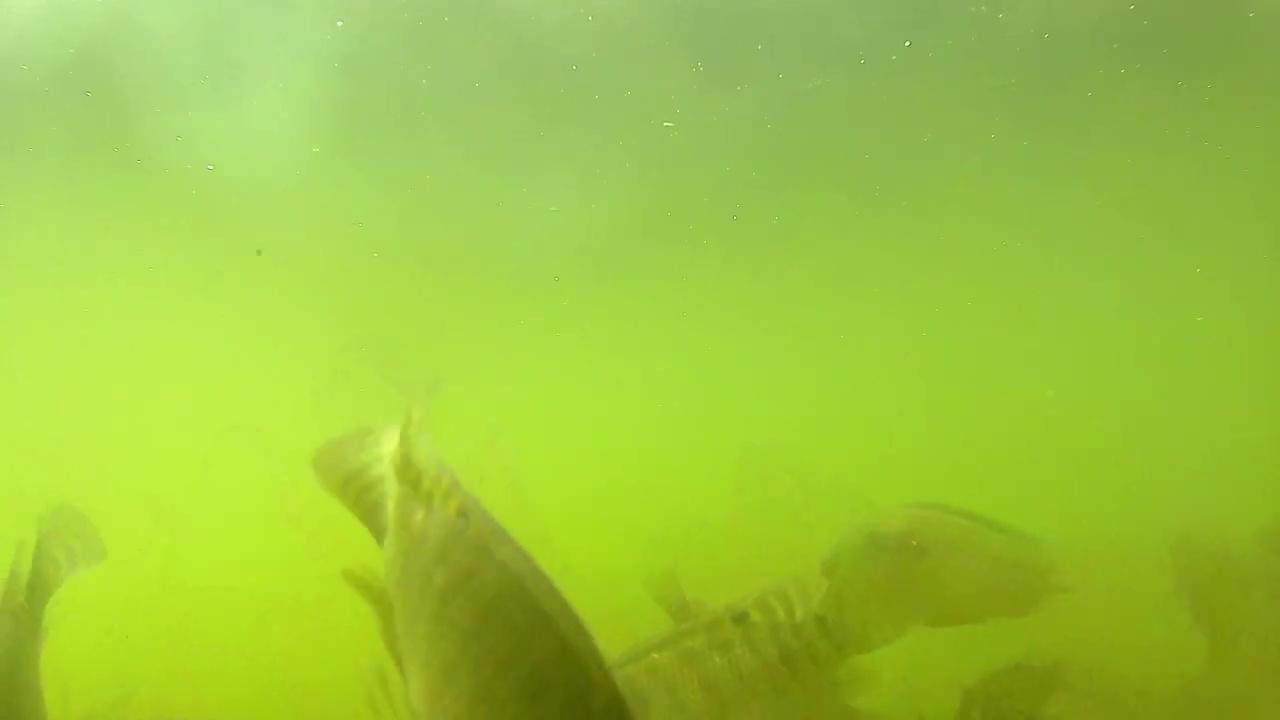Tilapia: (309, 408, 634, 720), (831, 486, 1084, 640)
